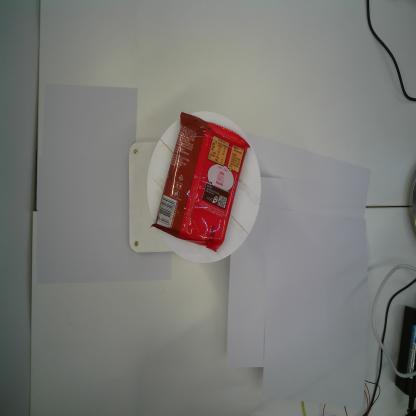Dessert: (150, 112, 251, 252)
